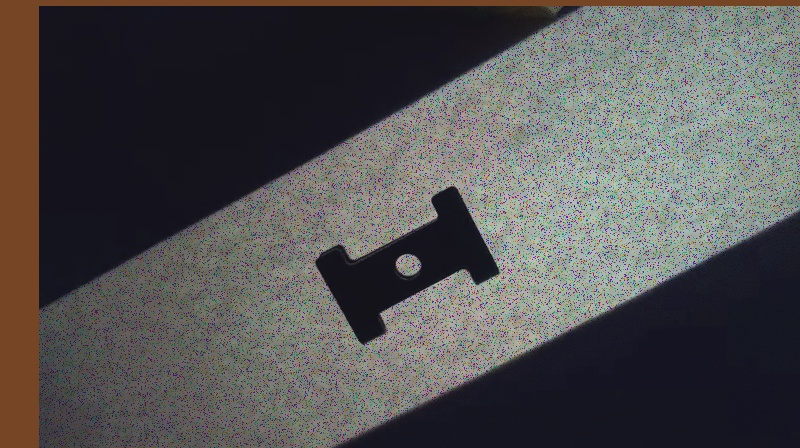O002: (314, 183, 501, 346)
